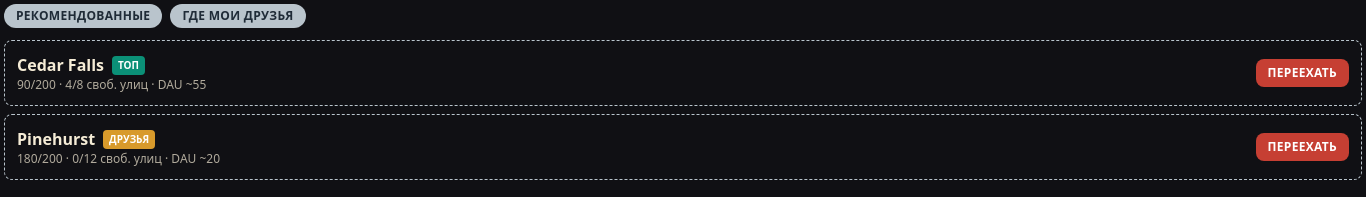
Test case: TownBrowser (§3.1.3) › фильтр «Рекомендованные» скрывает нерекомендованные города
The image size is (1366, 197).
Expected: the list item with test id "town-browse-card-town-a" is shown, x1=4 y1=40 x2=1362 y2=106
Step 1. Click the button with test id "town-browse-filter-recommended" → (83, 16), box x1=4 y1=4 x2=162 y2=28
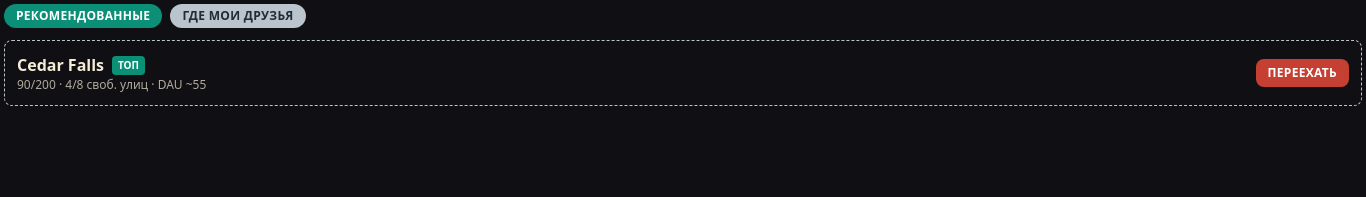
Expected: the list item with test id "town-browse-card-town-a" is shown, x1=4 y1=40 x2=1362 y2=106
Now the list item with test id "town-browse-card-town-b" is gone
